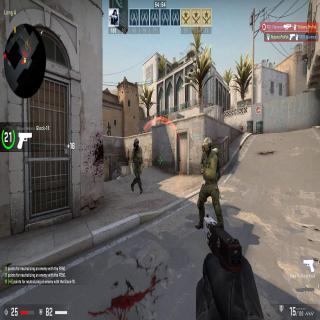CT-Body: (194, 137, 222, 222), (130, 137, 142, 191), (106, 121, 112, 136)
CT-Head: (202, 138, 213, 156), (134, 138, 138, 148), (108, 121, 110, 125)
